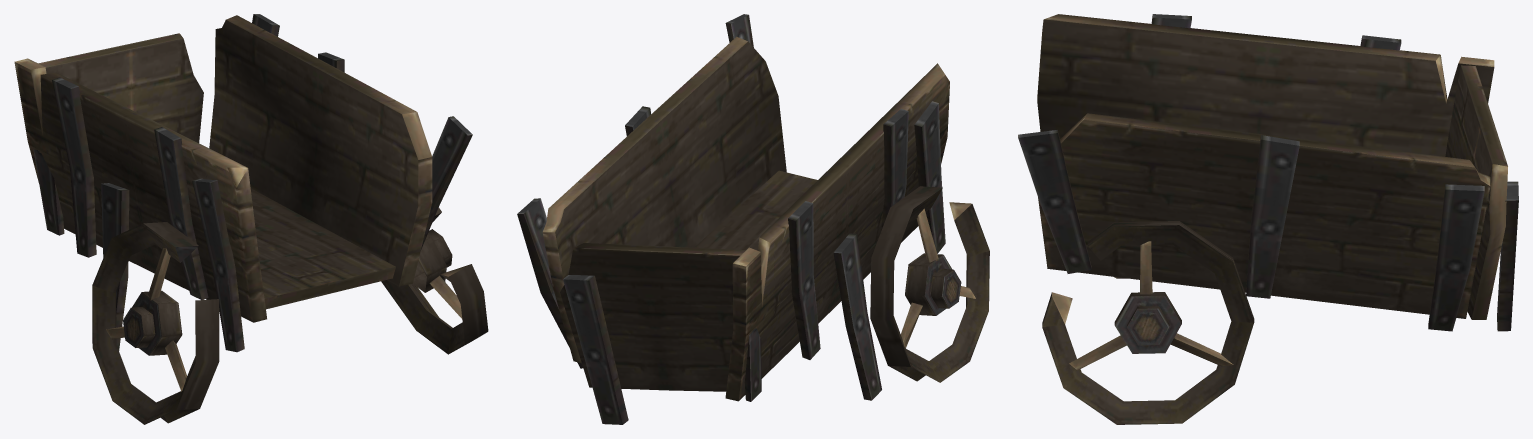
File: h5_tuiche.FBX
The picture shows the model from 3 angles, left to right: view 1: azimuth 30°, elevation 25°; view 2: azimuth 150°, elevation 25°; view 3: azimuth 270°, elevation 25°; orthographic projection. The views are drawn at different scales.
Visible parts, largest first — view 1: h5_tuiche; view 2: h5_tuiche; view 3: h5_tuiche.
Part boxes in pixels (bbox=[...]): h5_tuiche: bbox=[14, 14, 488, 424]; h5_tuiche: bbox=[517, 14, 989, 424]; h5_tuiche: bbox=[1018, 14, 1518, 424].
Size of the model in its own units: 2.03 by 1.6 by 2.58.
